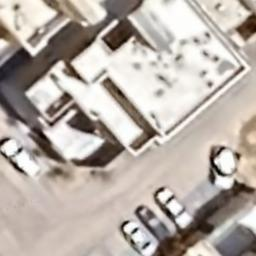SUV: (0, 136, 42, 178), (208, 144, 242, 192)
sedan: (153, 186, 193, 228), (121, 219, 156, 256), (136, 205, 170, 241)
